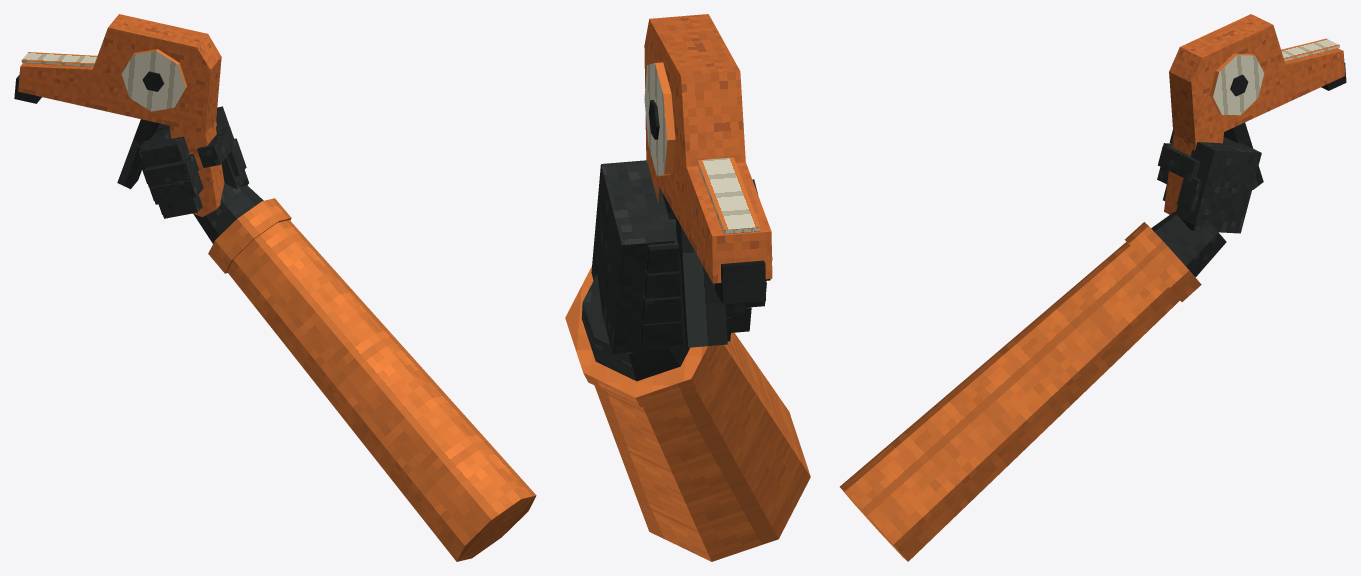
The model's file is vm_price_gun.glb.
3 views of the same model, side by side, from view 1: azimuth 30°, elevation 25°; view 2: azimuth 150°, elevation 25°; view 3: azimuth 270°, elevation 25° (orthographic). The views are drawn at different scales.
Visible parts, largest first — view 1: Arms, Item; view 2: Arms, Item; view 3: Arms, Item.
Boxes of the visible parts, x1,y1,x2,y2 form: Arms: [136, 106, 536, 561]; Item: [14, 14, 224, 216]; Arms: [565, 160, 810, 561]; Item: [644, 14, 772, 347]; Arms: [840, 130, 1261, 561]; Item: [1164, 14, 1346, 214].
Bounding box in the file's own units: 0.3615 × 0.525 × 0.5357.
Materials: 5 (5 with a texture image).
